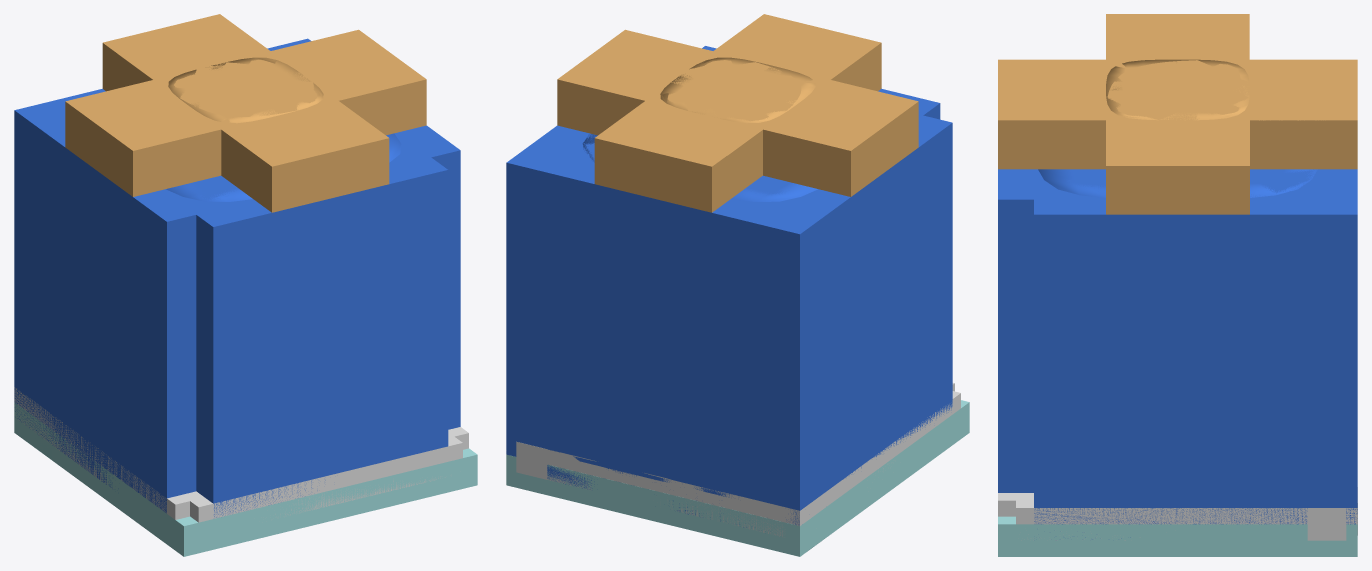
Rendered from Chunks.fbx.
3 views of the same model, side by side, from view 1: azimuth 30°, elevation 25°; view 2: azimuth 150°, elevation 25°; view 3: azimuth 270°, elevation 25° (orthographic). The views are drawn at different scales.
Parts seen in each view (by area): view 1: I, T, L, CenterA, CenterB, End; view 2: T, L, End, I, CenterA, CenterB; view 3: T, I, L, CenterB, End, CenterA.
Part boxes in pixels (x1,y1,x2,y2): I: (44, 46, 477, 556); T: (14, 38, 468, 555); L: (103, 14, 476, 457); CenterA: (14, 90, 472, 556); CenterB: (166, 57, 401, 201); End: (14, 43, 224, 459); T: (506, 70, 960, 533); L: (506, 29, 814, 503); End: (536, 116, 821, 556); I: (536, 14, 969, 556); CenterA: (551, 56, 969, 552); CenterB: (582, 57, 817, 201); T: (998, 14, 1357, 556); I: (998, 59, 1357, 556); L: (998, 59, 1357, 556); CenterB: (1038, 59, 1317, 197); End: (1102, 120, 1357, 180); CenterA: (1016, 59, 1207, 500).
Bounding box in the file's own units: 200 × 240 × 200.
